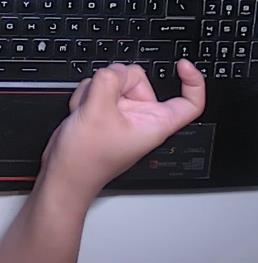anticlockwise: (39, 56, 208, 188)
